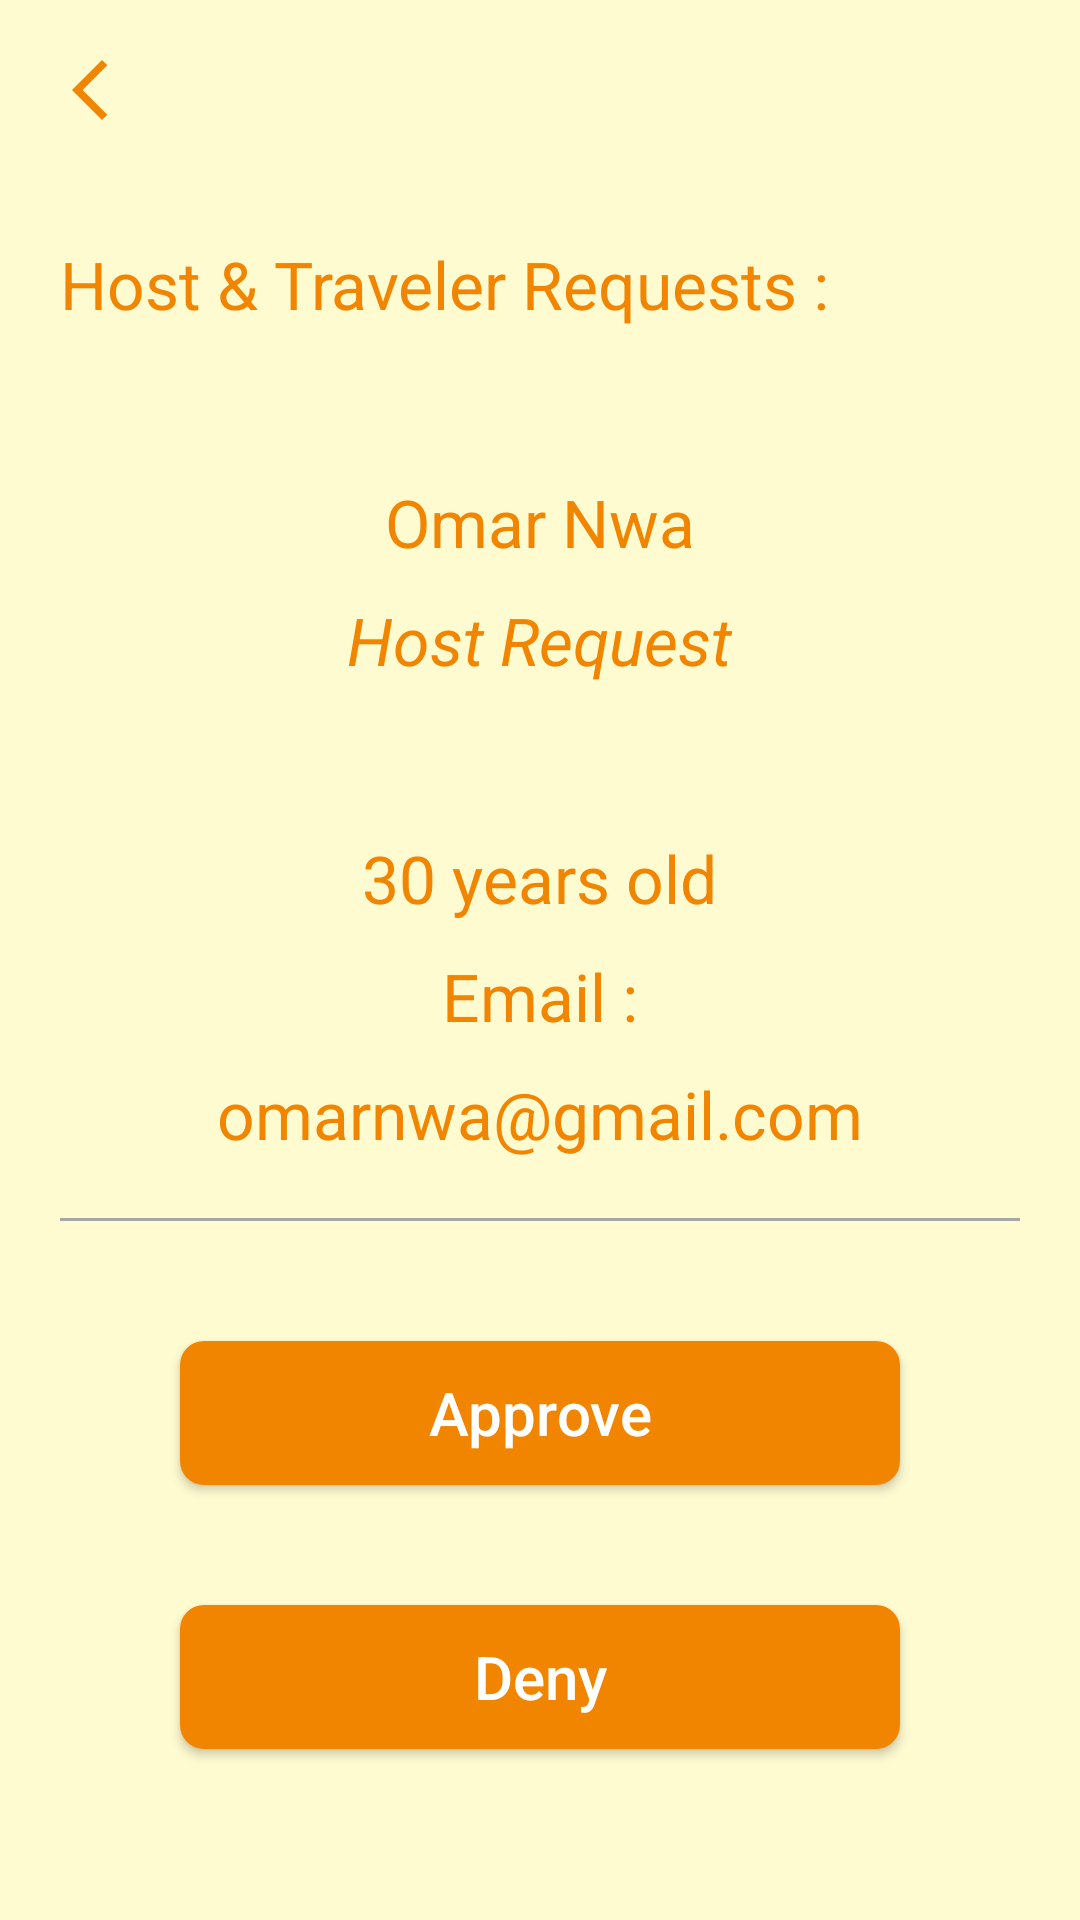

Locate icon controls on the screen. Image size 1080 × 1920, boxes as box=[x1, y1, x2, y2].
back: box=[72, 60, 107, 120]
